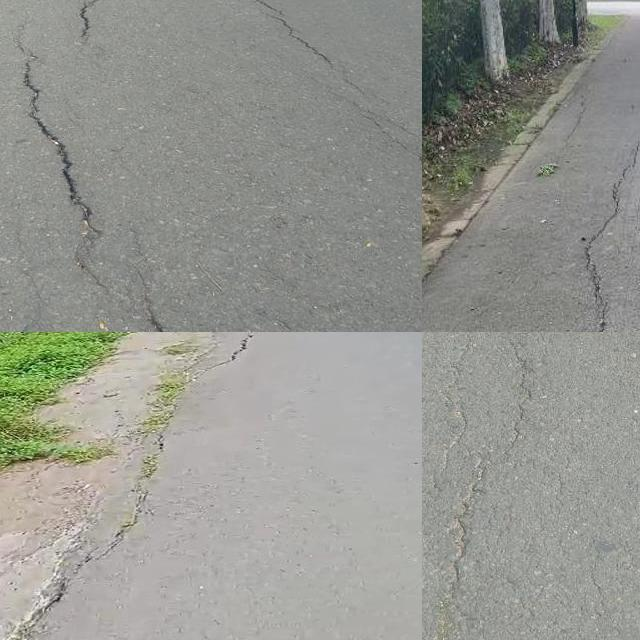Memanjang: (5, 24, 117, 297), (205, 0, 403, 130), (551, 124, 640, 332), (58, 0, 112, 51)
Pinggir: (0, 332, 279, 558)
